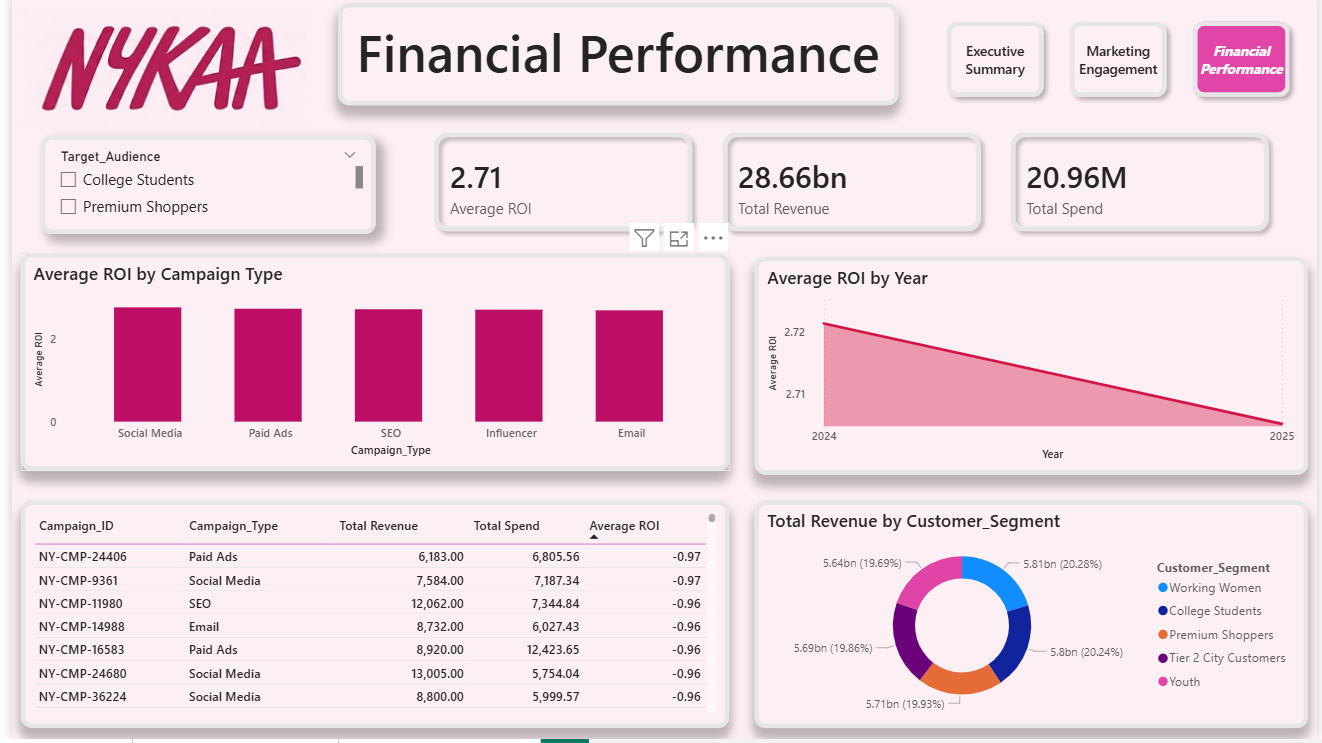

What the dashboard file says about the page in this screenshot:
{"tool":"powerbi","page":{"name":"Financial Performance","canvas":[1400,800],"ordinal":2},"visuals":[{"type":"textbox","box":[349.9,10.7,600.5,109.9],"z":0},{"type":"image","box":[9.4,10.7,307,142.1],"z":1000},{"type":"cardVisual","fields":{"Data":["measure.Average ROI","measure.Total Revenue","measure.Total Spend"]},"box":[423.6,120.6,955.8,164.9],"z":2000},{"type":"clusteredColumnChart","title":"Average ROI by Campaign Type","fields":{"Category":["marketing nykaa_campaign.Campaign_Type"],"Y":["measure.Average ROI"]},"box":[9.4,278.8,760.1,233.2],"z":3000},{"type":"donutChart","fields":{"Y":["measure.Total Revenue"],"Category":["marketing nykaa_campaign.Customer_Segment"]},"box":[796.3,544.2,593.8,244],"z":4000},{"type":"areaChart","fields":{"Category":["marketing nykaa_campaign.Date.Variation.Date Hierarchy.Year","marketing nykaa_campaign.Date.Variation.Date Hierarchy.Quarter","marketing nykaa_campaign.Date.Variation.Date Hierarchy.Month","marketing nykaa_campaign.Date.Variation.Date Hierarchy.Day"],"Y":["measure.Average ROI"]},"box":[796.3,282.8,593.8,233.2],"z":5000},{"type":"tableEx","fields":{"Values":["marketing nykaa_campaign.Campaign_ID","marketing nykaa_campaign.Campaign_Type","measure.Total Revenue","measure.Total Spend","measure.Average ROI"]},"box":[9.4,544.2,760.1,244],"z":6000},{"type":"slicer","fields":{"Values":["marketing nykaa_campaign.Target_Audience"]},"box":[30.8,152.8,359.3,105.9],"z":7000},{"type":"pageNavigator","box":[993.3,21.4,386.1,99.2],"z":8000}]}

Visuals, with their boxes in screenshot pixels (x1, y1, x2, y2), scaled from the page's 1400x800 canvas onto the 1322x743 screenshot:
textbox: region(330, 10, 897, 112)
image: region(9, 10, 299, 142)
cardVisual - measure.Average ROI x measure.Total Revenue: region(400, 112, 1303, 265)
"Average ROI by Campaign Type" clusteredColumnChart: region(9, 259, 727, 476)
donutChart - measure.Total Revenue x marketing nykaa_campaign.Customer_Segment: region(752, 505, 1313, 732)
areaChart - marketing nykaa_campaign.Date.Variation.Date Hierarchy.Year x marketing nykaa_campaign.Date.Variation.Date Hierarchy.Quarter: region(752, 263, 1313, 479)
tableEx - marketing nykaa_campaign.Campaign_ID x marketing nykaa_campaign.Campaign_Type: region(9, 505, 727, 732)
slicer - marketing nykaa_campaign.Target_Audience: region(29, 142, 368, 240)
pageNavigator: region(938, 20, 1303, 112)
